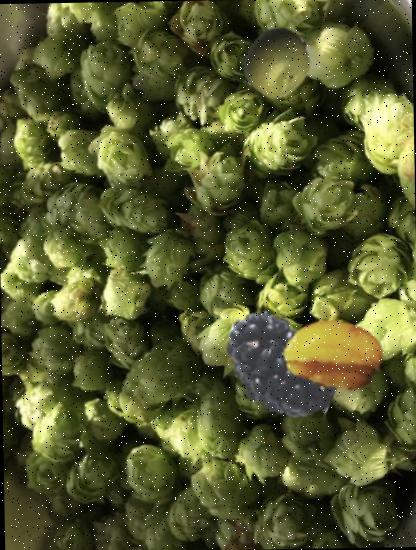Carambula: (282, 305, 385, 408)
Mulberry: (219, 305, 342, 428)
Pomelo: (241, 27, 313, 100)
